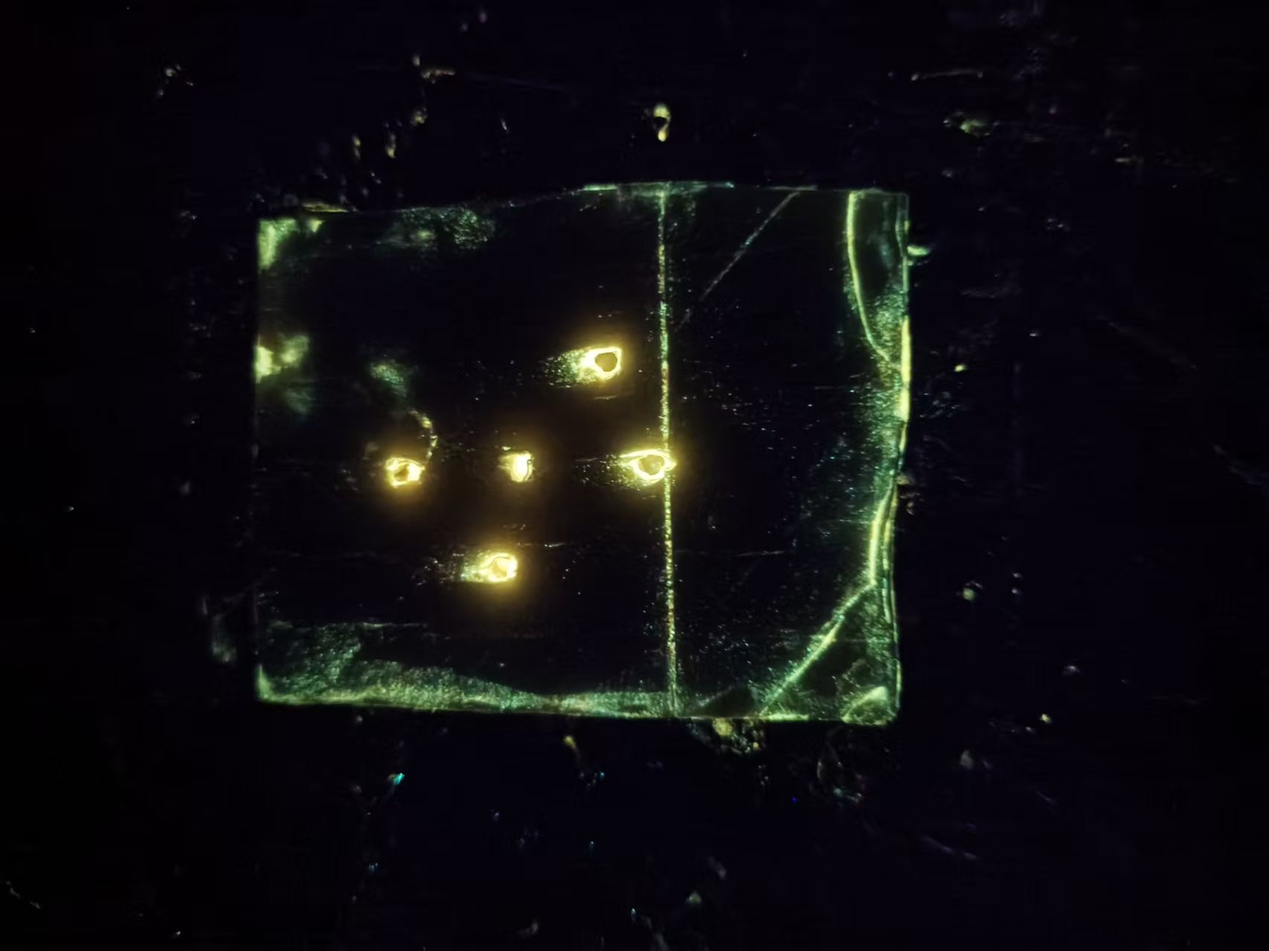Crater: (424, 535, 548, 605), (373, 433, 459, 508), (479, 432, 560, 506), (604, 435, 682, 499), (567, 332, 638, 400)
